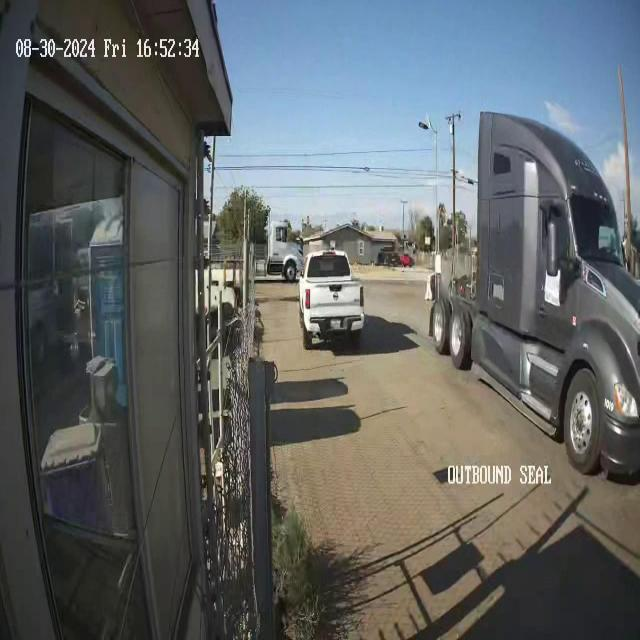TRUCK_IN: (428, 107, 639, 481)
